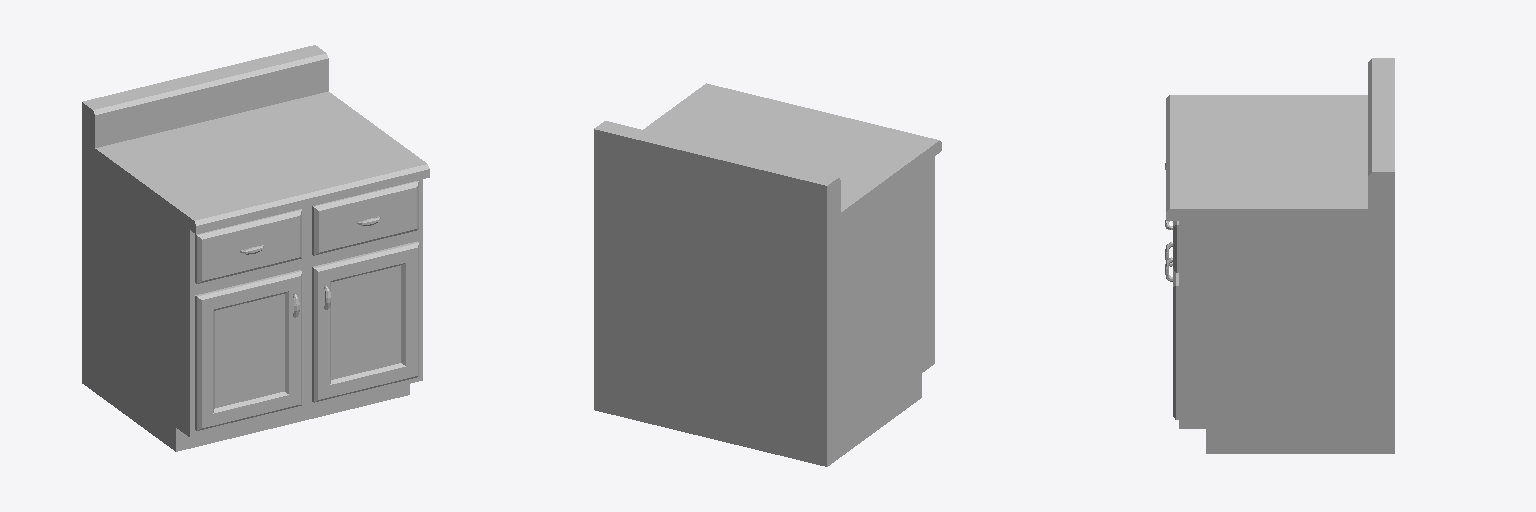
Rendered from Structure_Kitchen_Cabinet_Base_Full.obj.
The picture shows the model from 3 angles: view 1: azimuth 30°, elevation 25°; view 2: azimuth 150°, elevation 25°; view 3: azimuth 270°, elevation 25°; orthographic projection.
Parts seen in each view (by area): view 1: object9, object8, object7, object6, object1, object4; view 2: object8, object9; view 3: object8, object9, object6.
Boxes of the visible parts, <box> form: object9: <box>82,45,429,234</box>; object8: <box>82,151,422,451</box>; object7: <box>195,270,301,430</box>; object6: <box>312,241,418,402</box>; object1: <box>195,209,301,283</box>; object4: <box>312,181,418,255</box>; object8: <box>594,156,934,466</box>; object9: <box>594,83,941,234</box>; object8: <box>1179,221,1394,453</box>; object9: <box>1166,58,1394,220</box>; object6: <box>1173,269,1178,419</box>.
Bounding box in the file's own units: 1 × 1.15 × 0.8531.